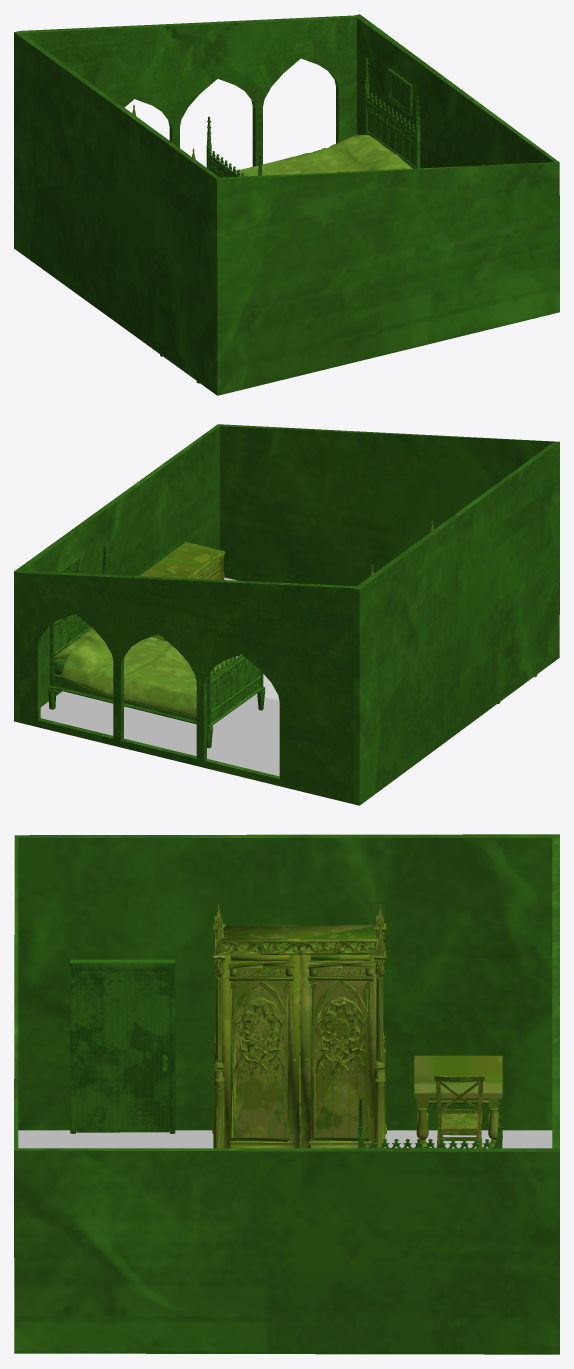
The model's file is room.fbx.
3 views of the same model, one above another, from view 1: azimuth 30°, elevation 25°; view 2: azimuth 150°, elevation 25°; view 3: azimuth 270°, elevation 25° (orthographic). The views are drawn at different scales.
Visible parts, largest first — view 1: wall, wall.001, GothicBed_01.013, GothicBed_01.021, SM_Frame_Ornate_01; view 2: wall, wall.001, floor, GothicBed_01.021, GothicBed_01.013, Dresser; view 3: wall, uploads_files_1900928_pseudogoticka+skrina+e, Damage_Door_Door.006, floor, 1_Cube.004, wall.001, uploads_files_2826193_obj, GothicBed_01.013.
Part boxes in pixels (box(x1,y1,x2,y2)): wall: box(14, 14, 559, 395); wall.001: box(20, 15, 356, 166); GothicBed_01.013: box(206, 58, 420, 177); GothicBed_01.021: box(234, 134, 400, 176); SM_Frame_Ornate_01: box(387, 68, 412, 116); wall: box(14, 424, 559, 805); wall.001: box(19, 570, 356, 804); floor: box(40, 577, 279, 776); GothicBed_01.021: box(59, 633, 235, 717); GothicBed_01.013: box(48, 544, 265, 748); Dresser: box(139, 542, 225, 641); wall: box(14, 834, 559, 1354); uploads_files_1900928_pseudogoticka+skrina+e: box(212, 904, 386, 1148); Damage_Door_Door.006: box(70, 959, 175, 1133); floor: box(18, 1130, 552, 1148); 1_Cube.004: box(414, 1055, 502, 1148); wall.001: box(552, 838, 559, 1148); uploads_files_2826193_obj: box(434, 1075, 484, 1148); GothicBed_01.013: box(358, 1097, 502, 1148).
Bounding box in the file's own units: 1395 × 847 × 1411.
